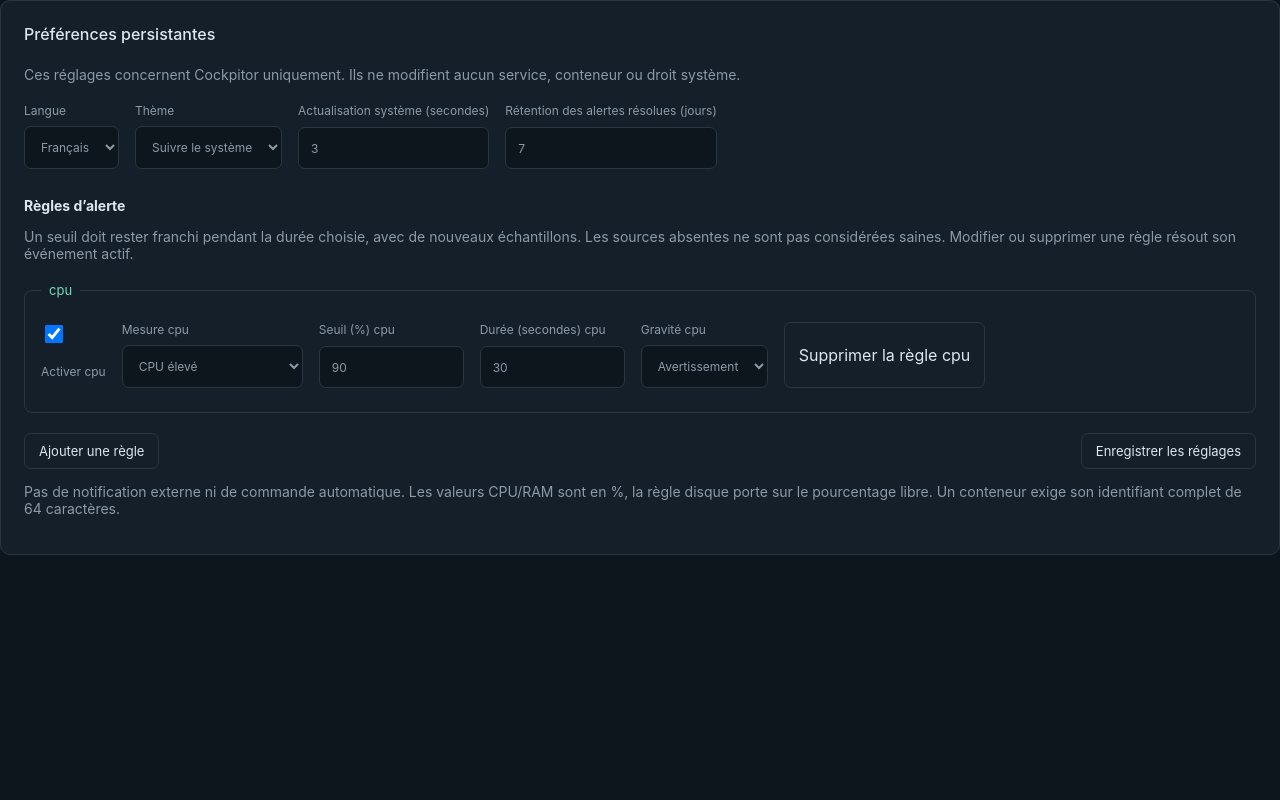
saves validated application settings with auth, JSON and CSRF headers
Step 1. Select "Clair" in the dropdown labelled "Thème" → point(208, 148), box [135, 126, 282, 169]
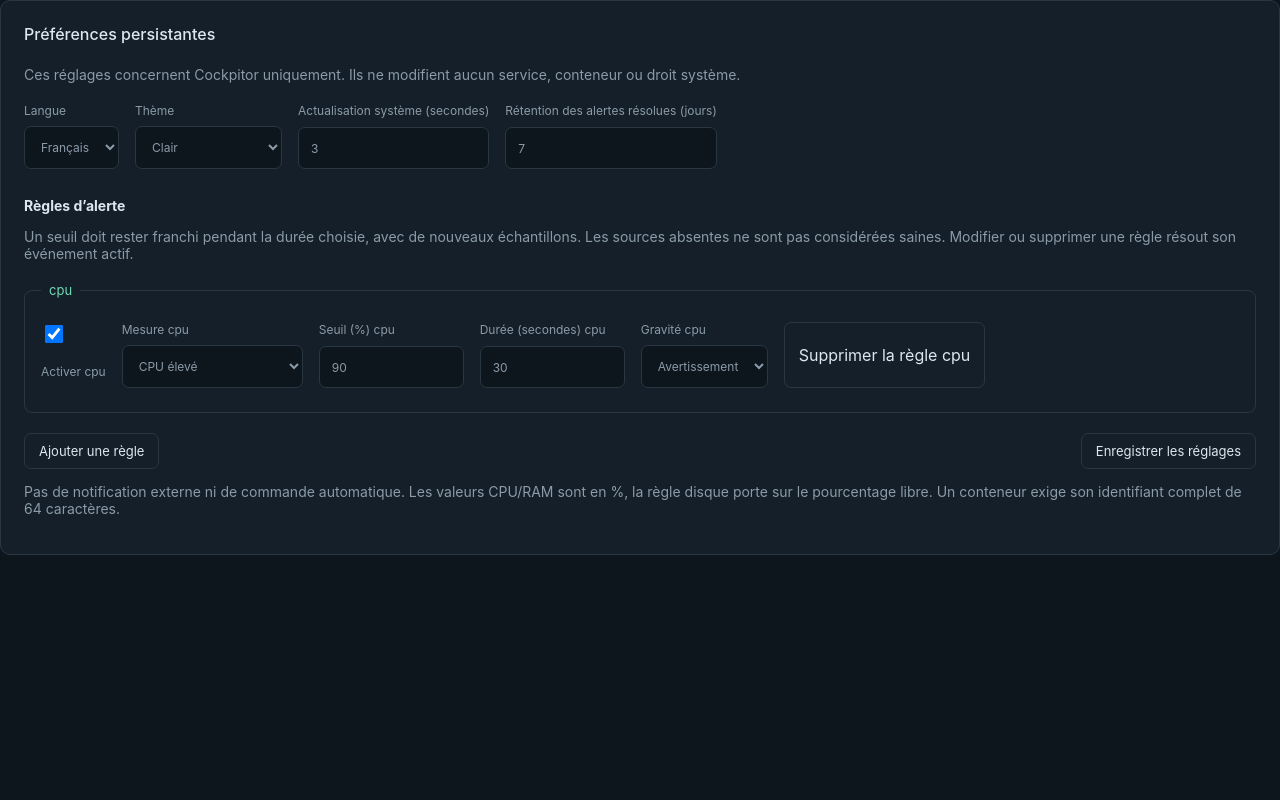
Step 2. Click the button "Enregistrer les réglages" → point(1168, 451), box [1081, 433, 1256, 469]
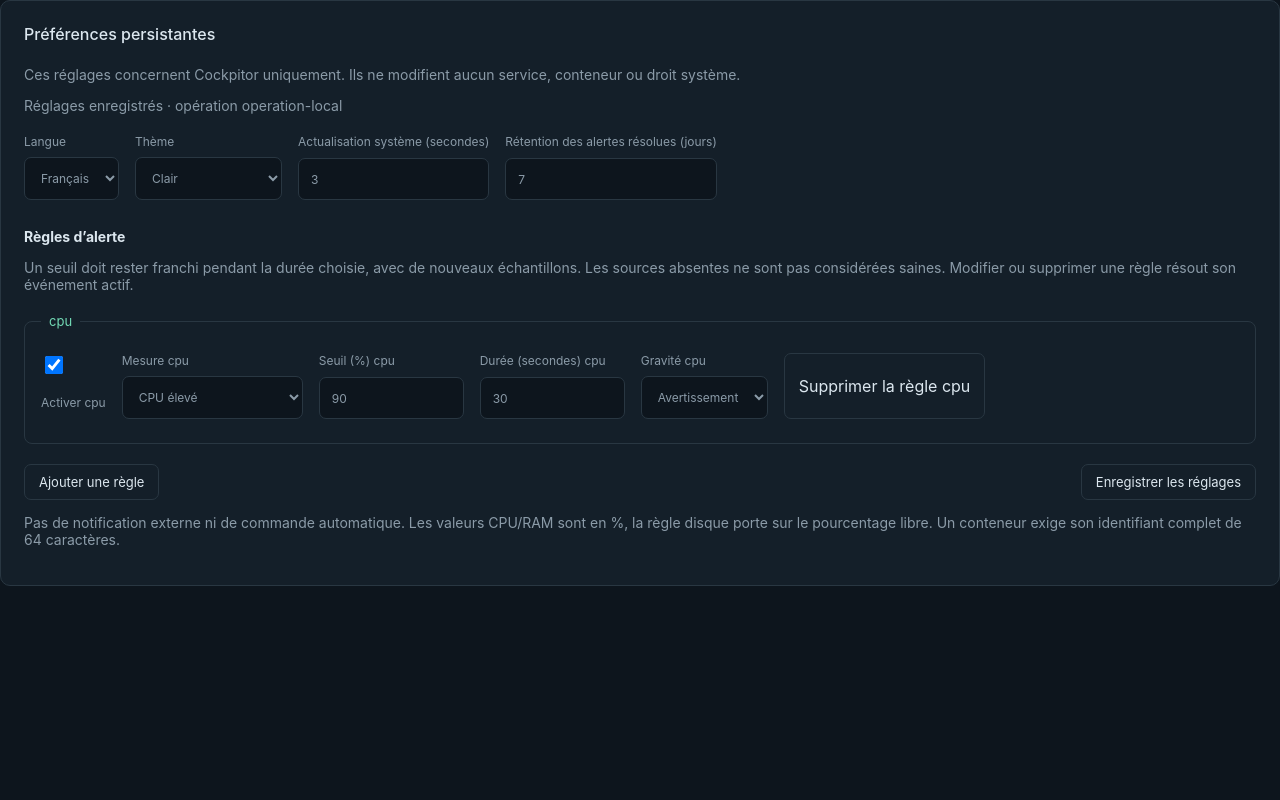
Result: the message shows "Réglages enregistrés" at [24, 97, 342, 114]
